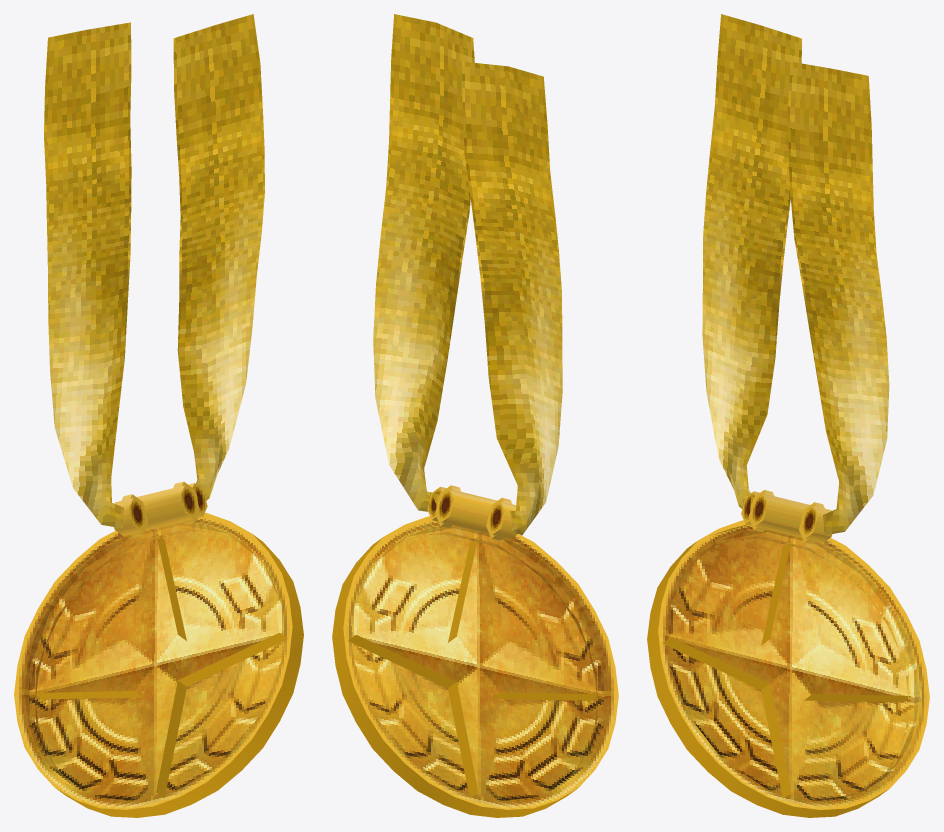
File: ps2_save-icons_cabelasalaskanadventures.glb
3 views of the same model, side by side, from view 1: azimuth 30°, elevation 25°; view 2: azimuth 150°, elevation 25°; view 3: azimuth 330°, elevation 25° (orthographic). The views are drawn at different scales.
Parts seen in each view (by area): view 1: static.ico; view 2: static.ico; view 3: static.ico.
Part boxes in pixels (x1,y1,x2,y2): static.ico: [14, 14, 303, 817]; static.ico: [332, 14, 618, 817]; static.ico: [647, 14, 929, 817].
Bounding box in the file's own units: 1.84 × 4.92 × 0.4067.
Materials: 1 (1 with a texture image).
